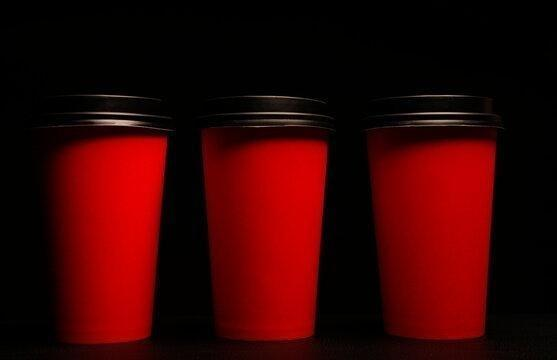cup-disposable: (21, 89, 176, 347), (358, 89, 505, 343), (193, 90, 337, 344)
